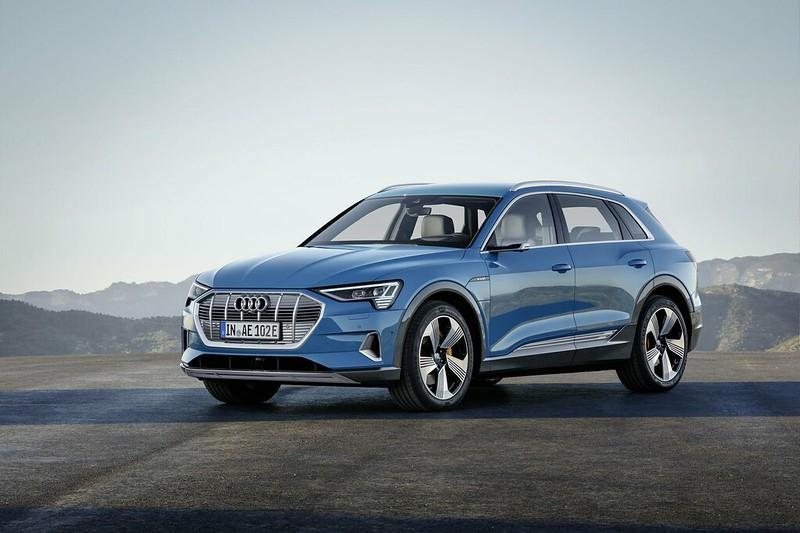windshield: (287, 186, 509, 259)
